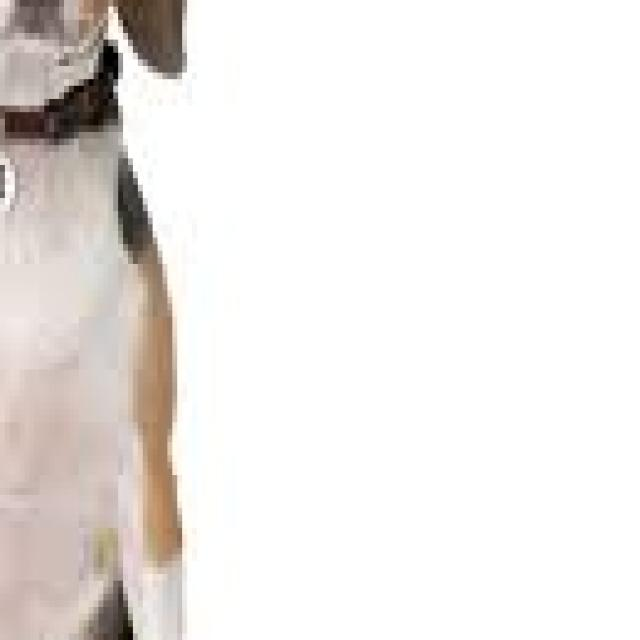dog: (0, 0, 276, 640)
